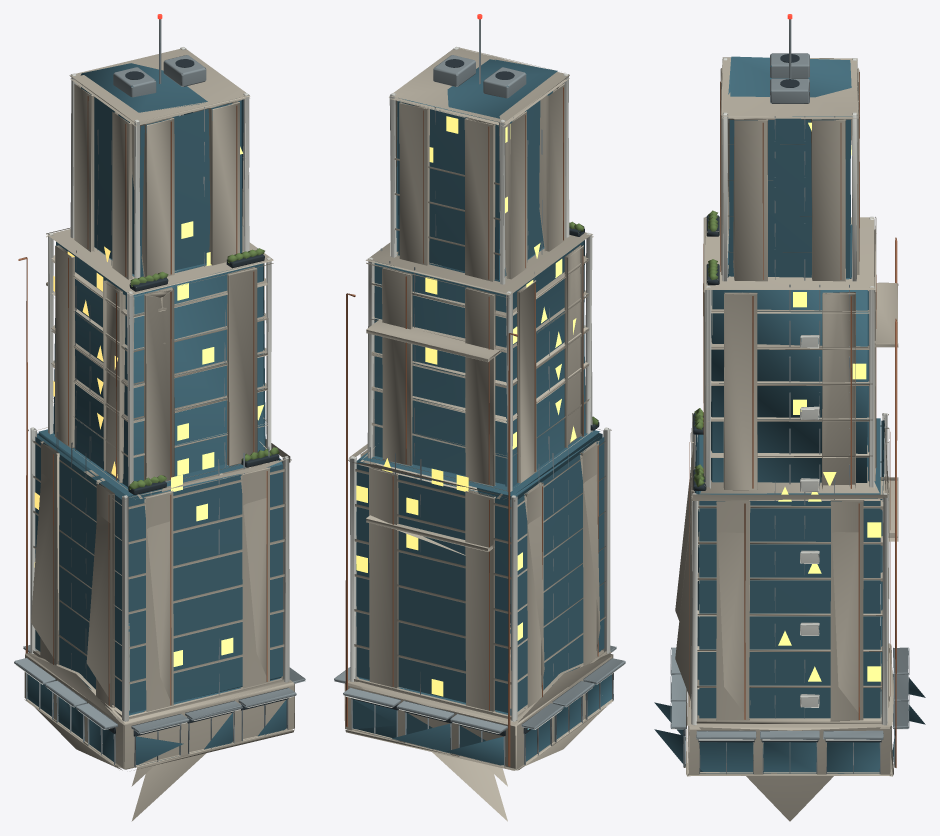
File: tower-2-lod.glb
3 views of the same model, side by side, from view 1: azimuth 30°, elevation 25°; view 2: azimuth 150°, elevation 25°; view 3: azimuth 270°, elevation 25° (orthographic). The views are drawn at different scales.
Parts seen in each view (by area): view 1: NC mineral concrete.002, NC sapphire glazing.002, NC ceramic ivory.002, NC brushed titanium.002, NC oxidized copper.002, NC amber.002, NC graphite.002, NC foliage.002; view 2: NC mineral concrete.002, NC sapphire glazing.002, NC ceramic ivory.002, NC brushed titanium.002, NC oxidized copper.002, NC amber.002, NC graphite.002; view 3: NC mineral concrete.002, NC sapphire glazing.002, NC ceramic ivory.002, NC brushed titanium.002, NC oxidized copper.002, NC amber.002, NC graphite.002, NC foliage.002.
Boxes of the visible parts, x1,y1,x2,y2 form: NC mineral concrete.002: (24, 48, 294, 821); NC sapphire glazing.002: (27, 63, 286, 764); NC ceramic ivory.002: (16, 47, 294, 745); NC brushed titanium.002: (14, 19, 305, 767); NC oxidized copper.002: (18, 96, 267, 705); NC amber.002: (34, 146, 263, 666); NC graphite.002: (108, 59, 288, 736); NC foliage.002: (129, 248, 279, 490); NC mineral concrete.002: (344, 47, 613, 821); NC sapphire glazing.002: (353, 59, 611, 765); NC ceramic ivory.002: (345, 47, 623, 733); NC brushed titanium.002: (334, 19, 625, 766); NC oxidized copper.002: (345, 87, 598, 766); NC amber.002: (356, 116, 576, 696); NC graphite.002: (351, 59, 599, 736); NC mineral concrete.002: (675, 57, 898, 821); NC sapphire glazing.002: (654, 56, 925, 773); NC ceramic ivory.002: (672, 58, 907, 740); NC brushed titanium.002: (670, 19, 909, 773); NC oxidized copper.002: (689, 72, 897, 767); NC amber.002: (778, 122, 881, 681); NC graphite.002: (683, 54, 895, 742); NC foliage.002: (694, 210, 717, 486).
Bounding box in the file's own units: 24.05 × 91.33 × 27.4.
